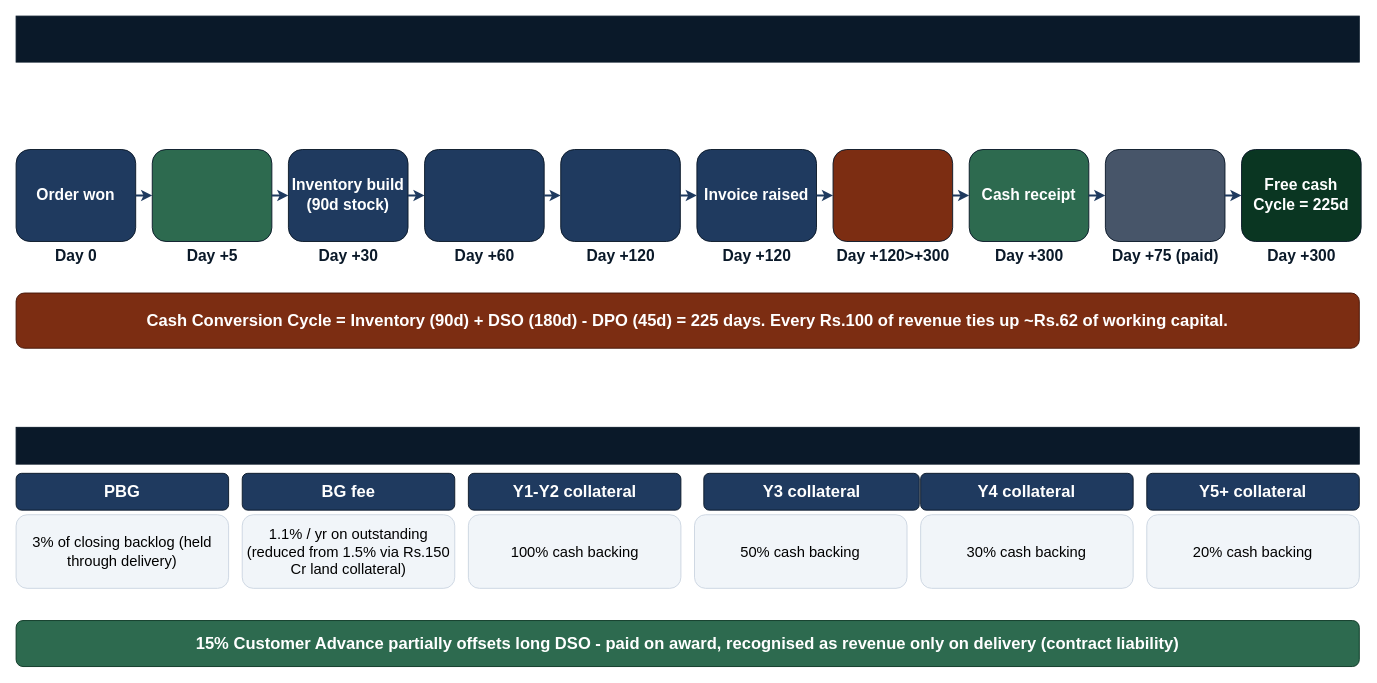
Image size: 1377x683. Some labels were removed from this diagram. The shapes that lost their labels are listed below. From the top down, each one's centre as x and y in pixels, then its label:
At (x=687, y=38): "Working Capital Cycle (225-day Cash Conversion)".
At (x=211, y=195): "Customer Advance 15% paid".
At (x=484, y=195): "Production".
At (x=620, y=195): "Delivery".
At (x=892, y=195): "DSO wait 180 days".
At (x=1164, y=195): "Pay supplier (DPO 45d earlier)".
At (x=687, y=445): "Bank Guarantee Profile".
